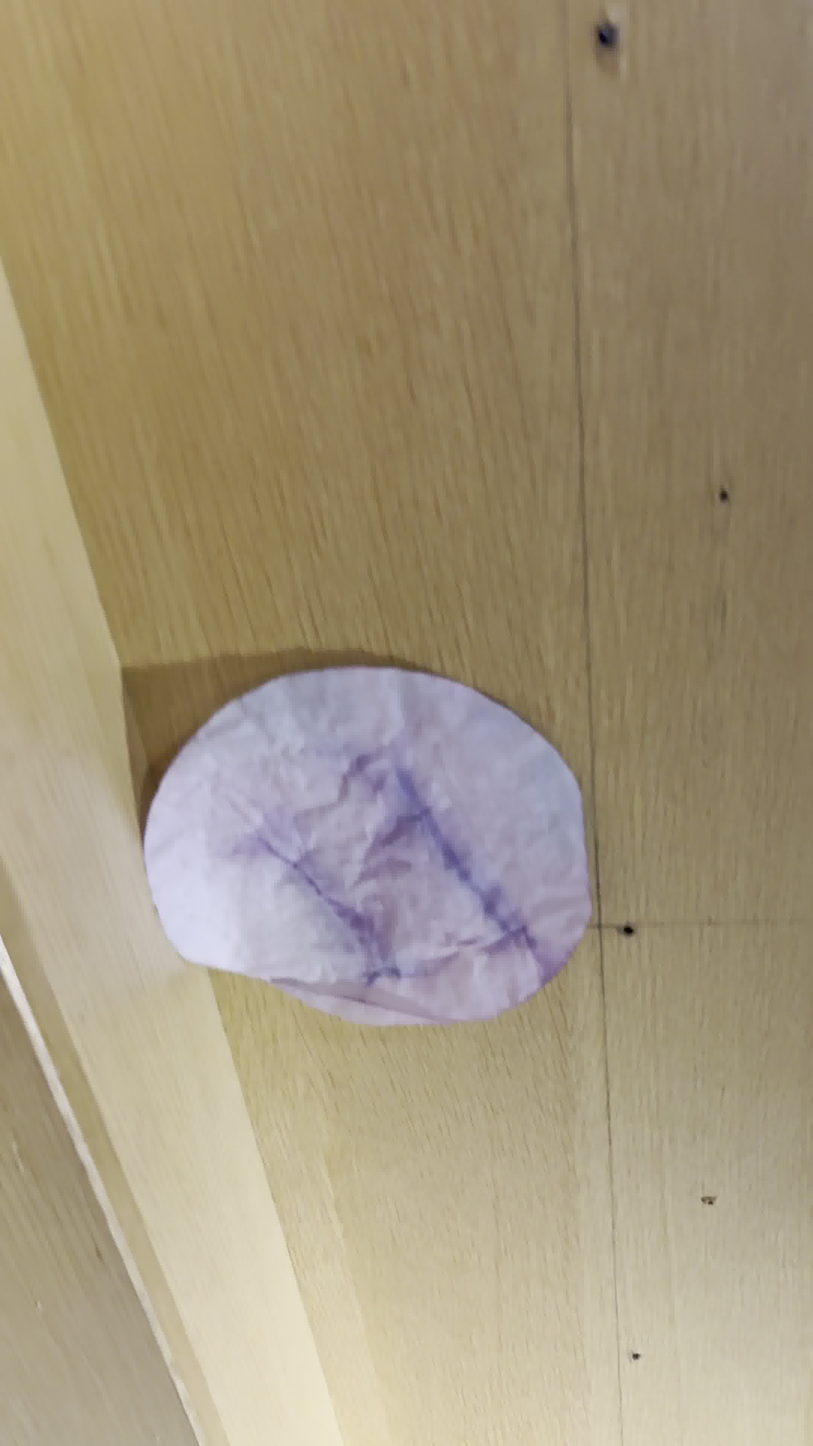Target: (141, 666, 590, 1027)
